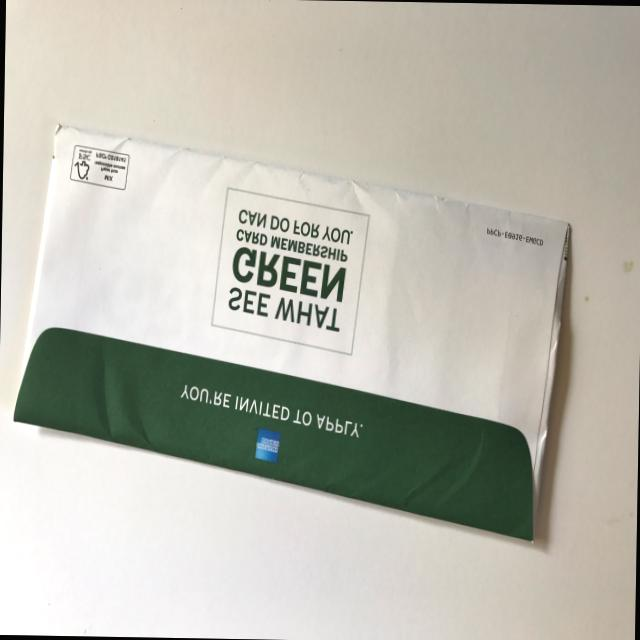Paper: (0, 116, 584, 558)
